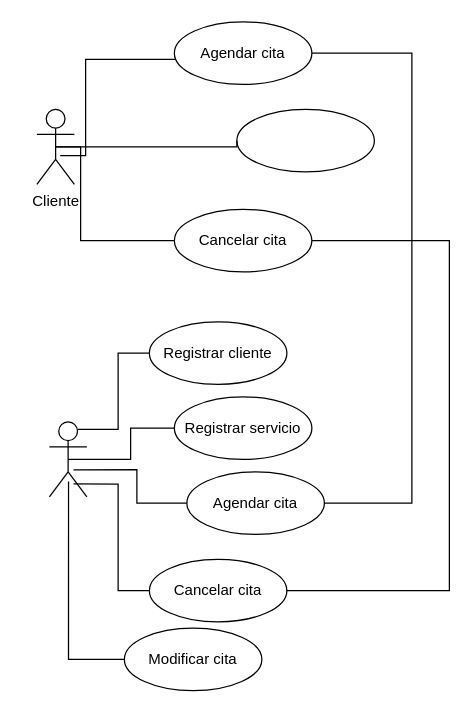
This 473x713 diagram has some shape labels left out. Each missing label, with the centre of its shape:
"Administrador" belongs at point 67,459.
"Consultar cita" belongs at point 305,140.
